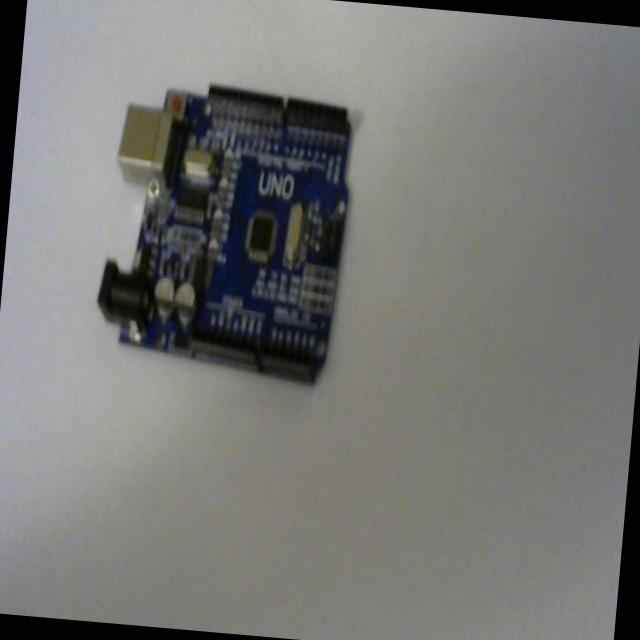arduino: (88, 68, 356, 390)
